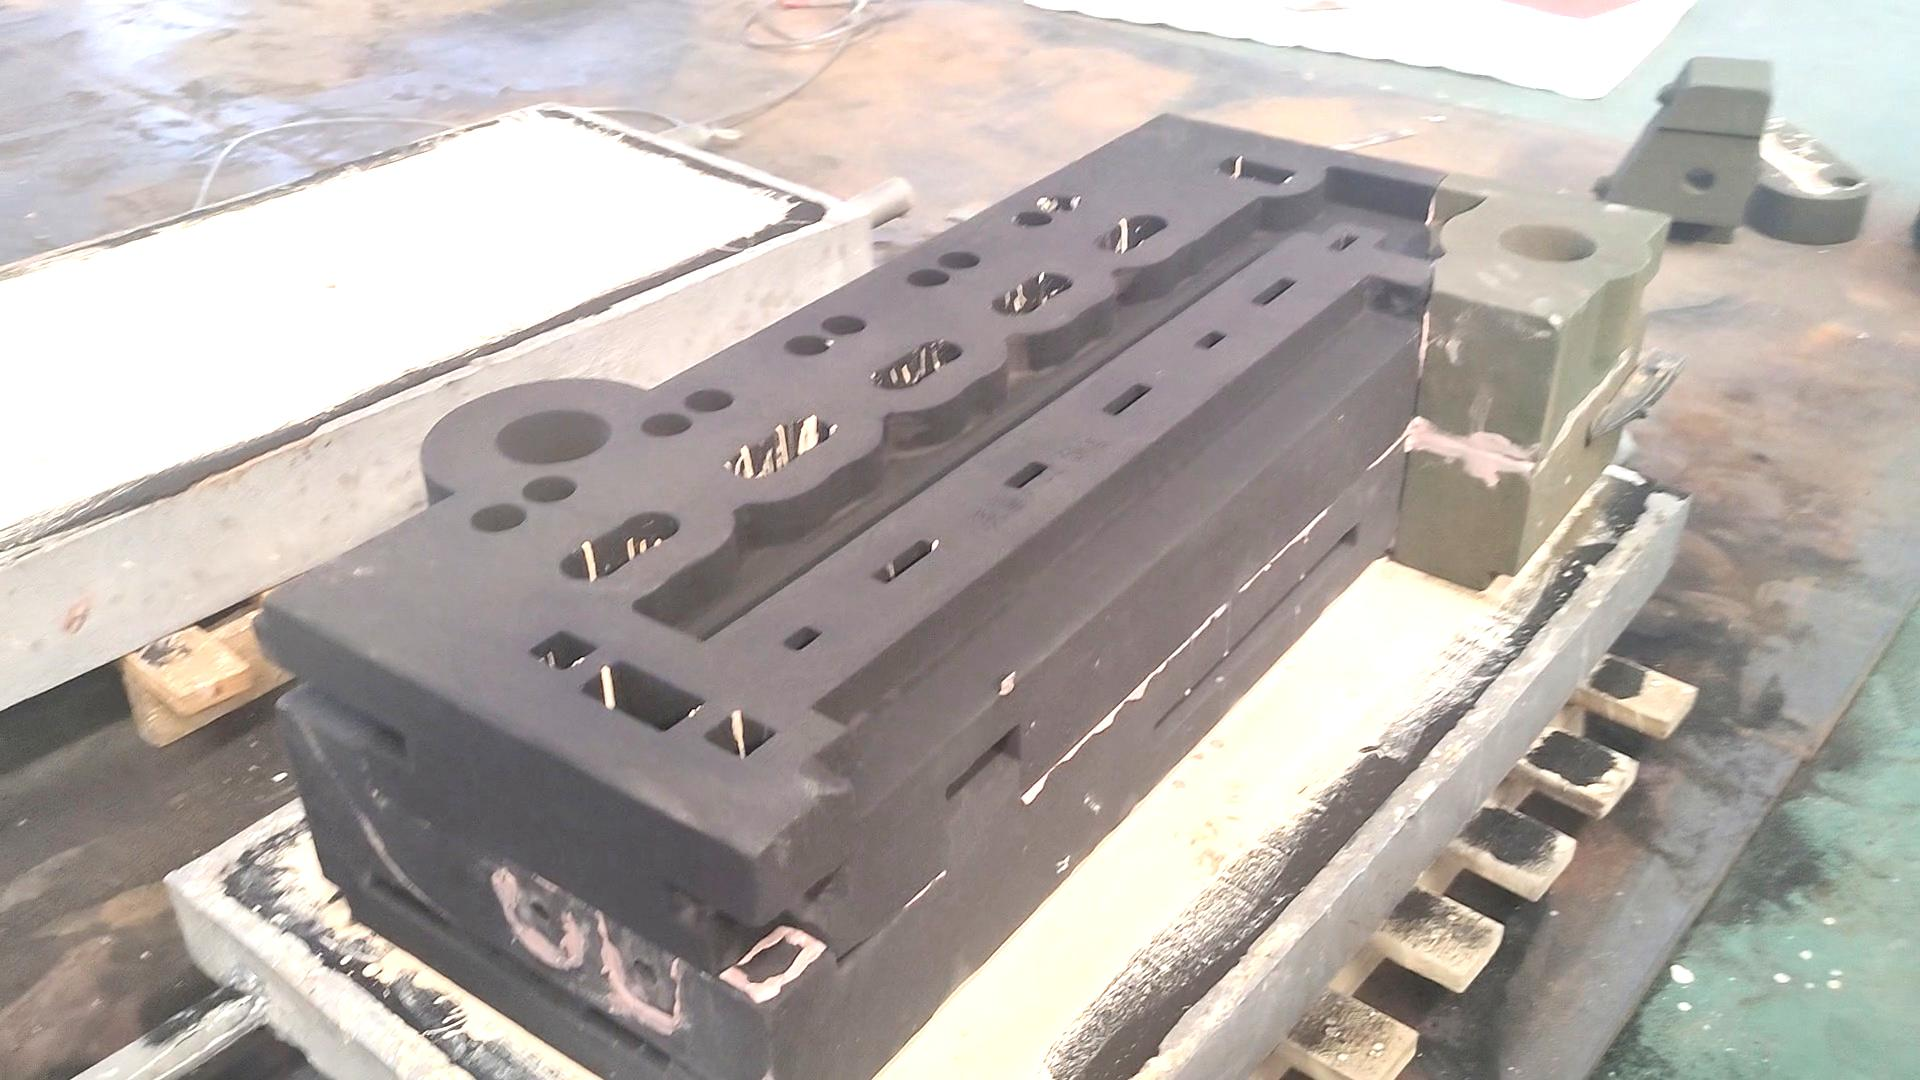pouring hole: (495, 410, 613, 465), (1499, 225, 1598, 262)
